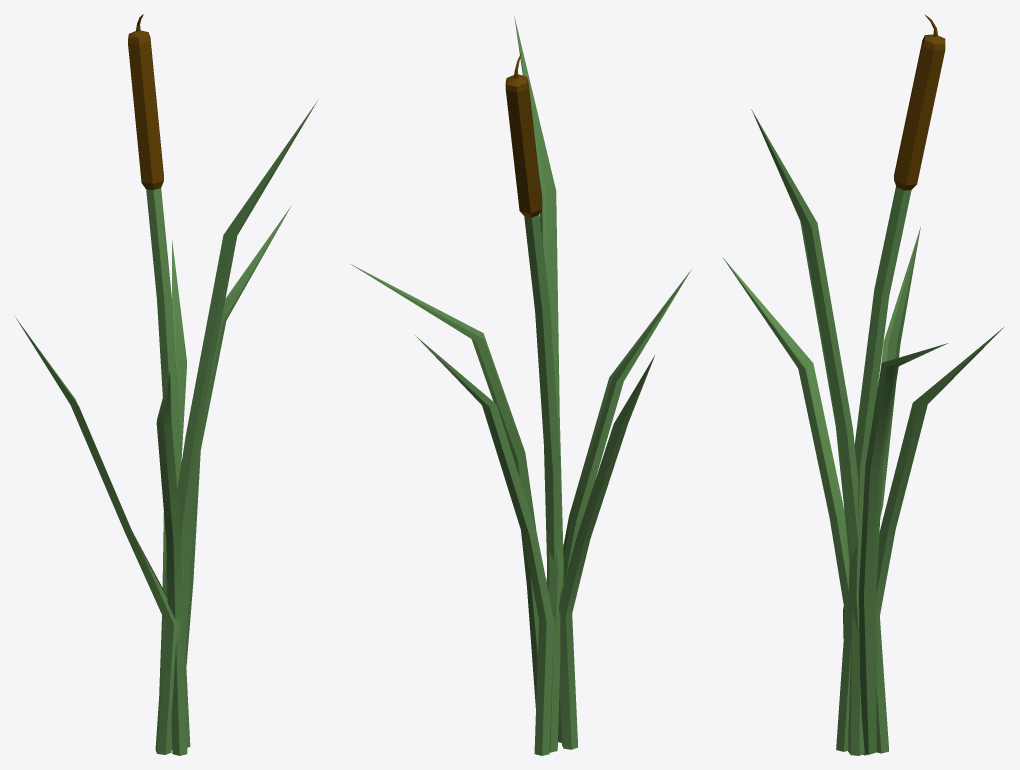
File: 001_Reed_001.fbx
3 views of the same model, side by side, from view 1: azimuth 30°, elevation 25°; view 2: azimuth 150°, elevation 25°; view 3: azimuth 270°, elevation 25° (orthographic). The views are drawn at different scales.
Visible parts, largest first — view 1: pCylinder7; view 2: pCylinder7; view 3: pCylinder7.
Boxes of the visible parts, x1,y1,x2,y2 form: pCylinder7: [15, 14, 317, 755]; pCylinder7: [350, 16, 691, 755]; pCylinder7: [722, 14, 1004, 755].
Bounding box in the file's own units: 2.61 × 6.08 × 2.12.
